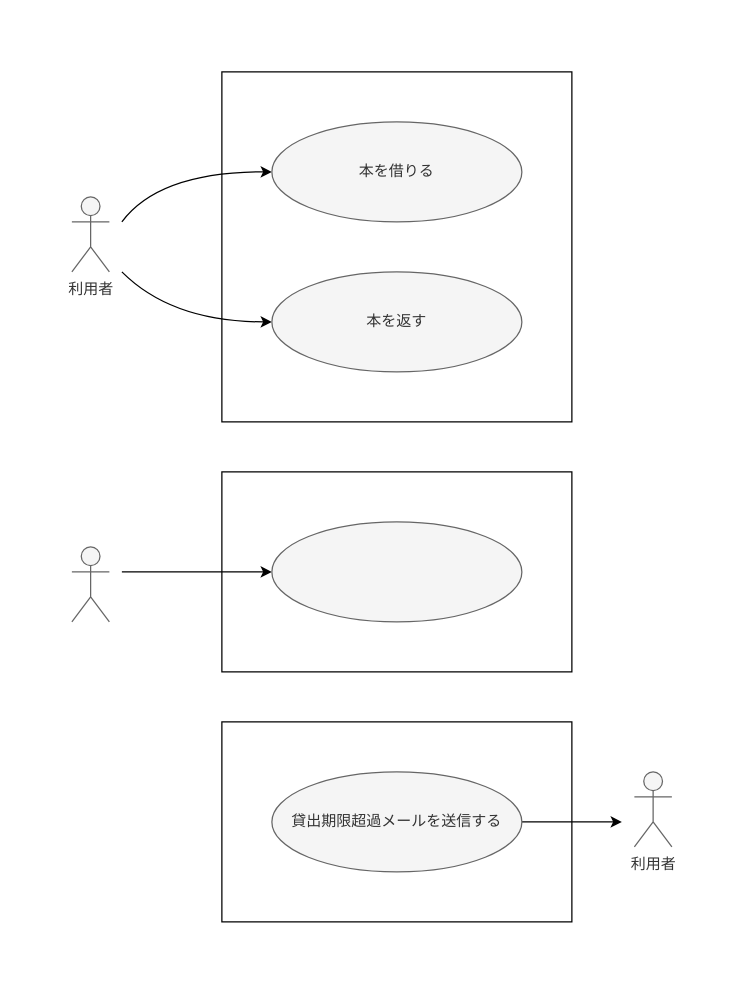
The diagram is 743 pixels wide and 993 high, and some of its shapes have lost their labels. The centre of each missing label's shape, as x and y in pixels:
"本を登録する" belongs at (396,571).
"管理者" belongs at (90,584).
